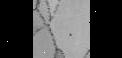good_void: (66, 32, 74, 39)
